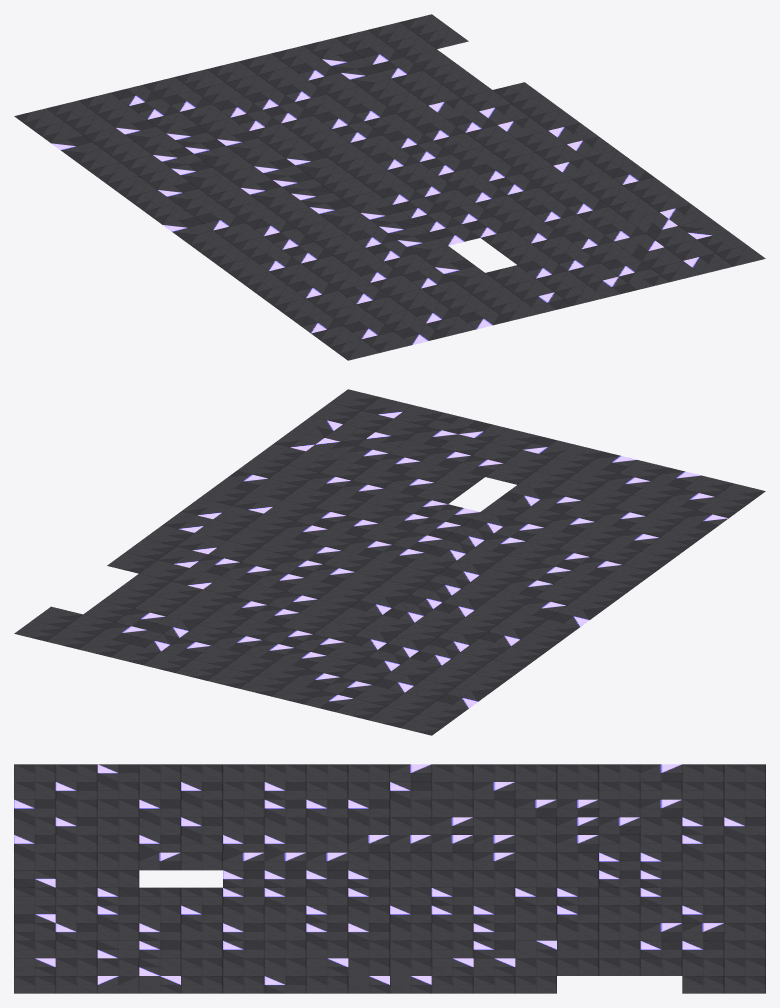
The model's file is landmarkbottom.fbx.
The picture shows the model from 3 angles, top to bottom: view 1: azimuth 30°, elevation 25°; view 2: azimuth 150°, elevation 25°; view 3: azimuth 270°, elevation 25°; orthographic projection. The views are drawn at different scales.
Parts seen in each view (by area): view 1: landmarktilefloor; view 2: landmarktilefloor; view 3: landmarktilefloor.
Boxes of the visible parts, x1,y1,x2,y2 form: landmarktilefloor: [14, 14, 765, 360]; landmarktilefloor: [14, 389, 765, 735]; landmarktilefloor: [14, 764, 765, 993].
Size of the model in its own units: 2047 by 0.000438 by 2835.
